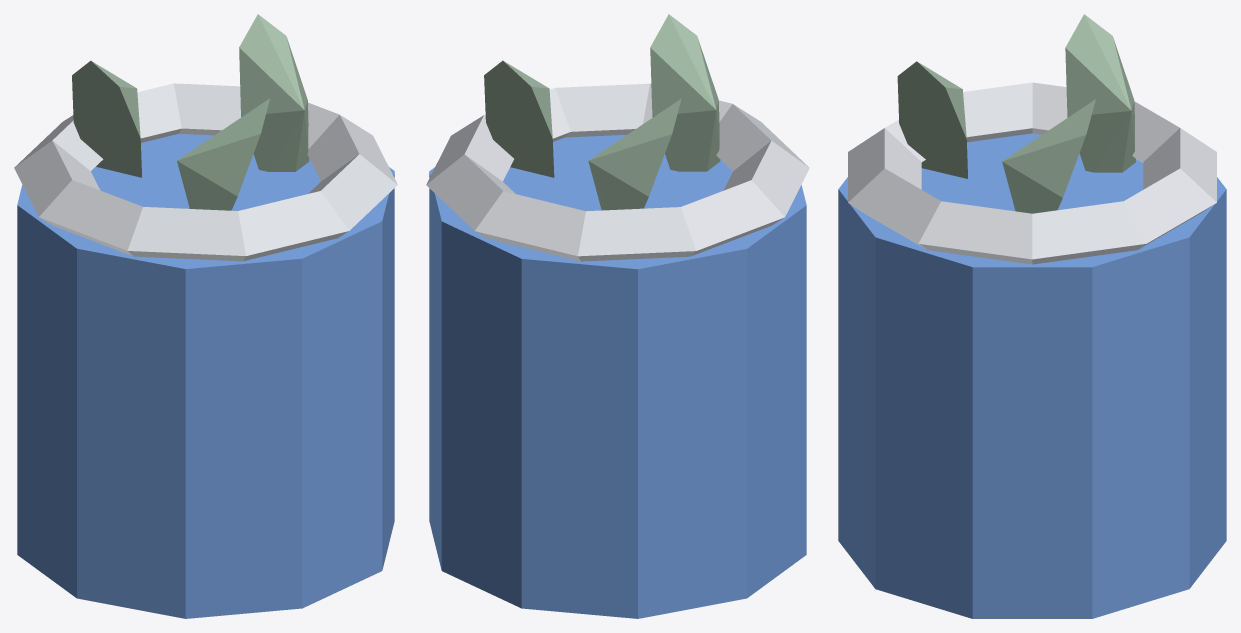
Rendered from BaitBucket.fbx.
3 views of the same model, side by side, from view 1: azimuth 30°, elevation 25°; view 2: azimuth 150°, elevation 25°; view 3: azimuth 270°, elevation 25° (orthographic).
Visible parts, largest first — view 1: Body; view 2: Body; view 3: Body.
Boxes of the visible parts, x1,y1,x2,y2 form: Body: (14, 14, 397, 618); Body: (426, 14, 809, 618); Body: (838, 14, 1226, 618).
Bounding box in the file's own units: 0.6 × 0.8239 × 0.6.
